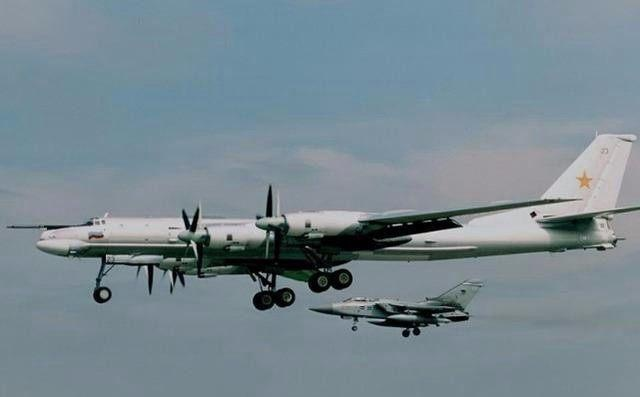airplane: (30, 131, 640, 307), (303, 276, 493, 339)
